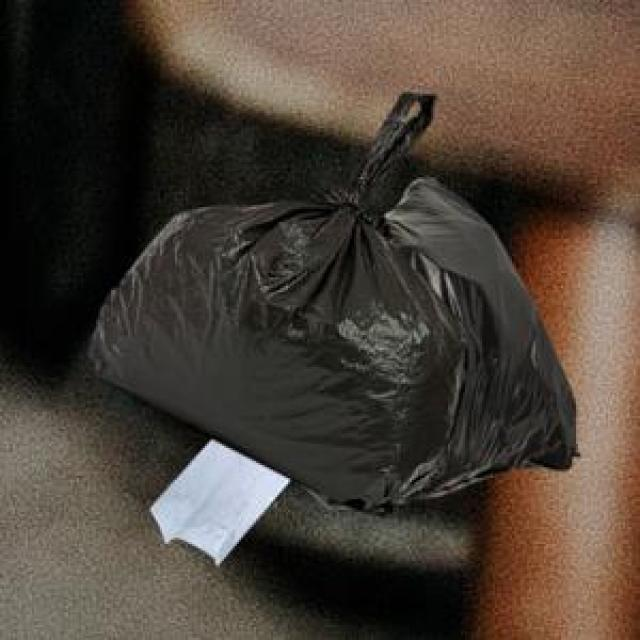miscellaneous trash: (85, 90, 461, 512), (322, 175, 576, 504)
